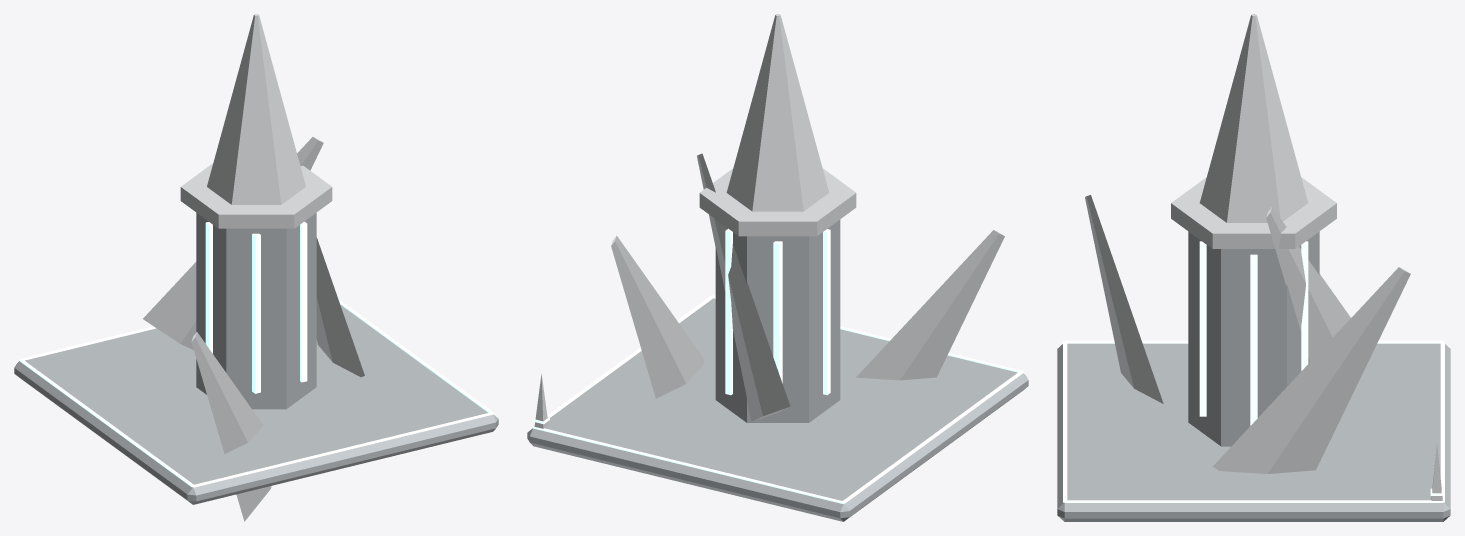
Rendered from zone_high_5_t1.glb.
3 renders of one model, left to right at view 1: azimuth 30°, elevation 25°; view 2: azimuth 150°, elevation 25°; view 3: azimuth 270°, elevation 25°, orthographic. The views are drawn at different scales.
Parts seen in each view (by area): view 1: zone_high_5_t1, detail; view 2: zone_high_5_t1, detail; view 3: zone_high_5_t1, detail.
Boxes of the visible parts, bbox=[...] form: zone_high_5_t1: bbox=[14, 14, 498, 521]; detail: bbox=[18, 239, 494, 487]; zone_high_5_t1: bbox=[527, 14, 1028, 521]; detail: bbox=[532, 295, 1023, 503]; zone_high_5_t1: bbox=[1057, 14, 1450, 521]; detail: bbox=[1063, 340, 1444, 502].
Bounding box in the file's own units: 27.5 × 38.37 × 27.5.
